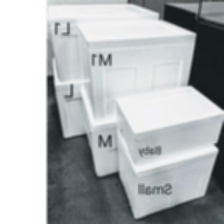foam_box: (75, 73, 208, 180), (72, 15, 199, 123), (50, 49, 191, 141), (109, 126, 223, 222), (47, 1, 161, 85), (113, 83, 224, 168)
